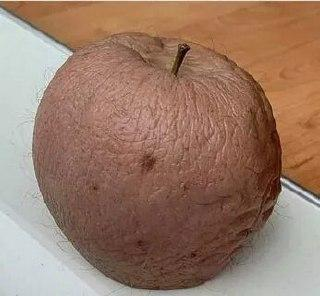Apple: (32, 34, 282, 290)
